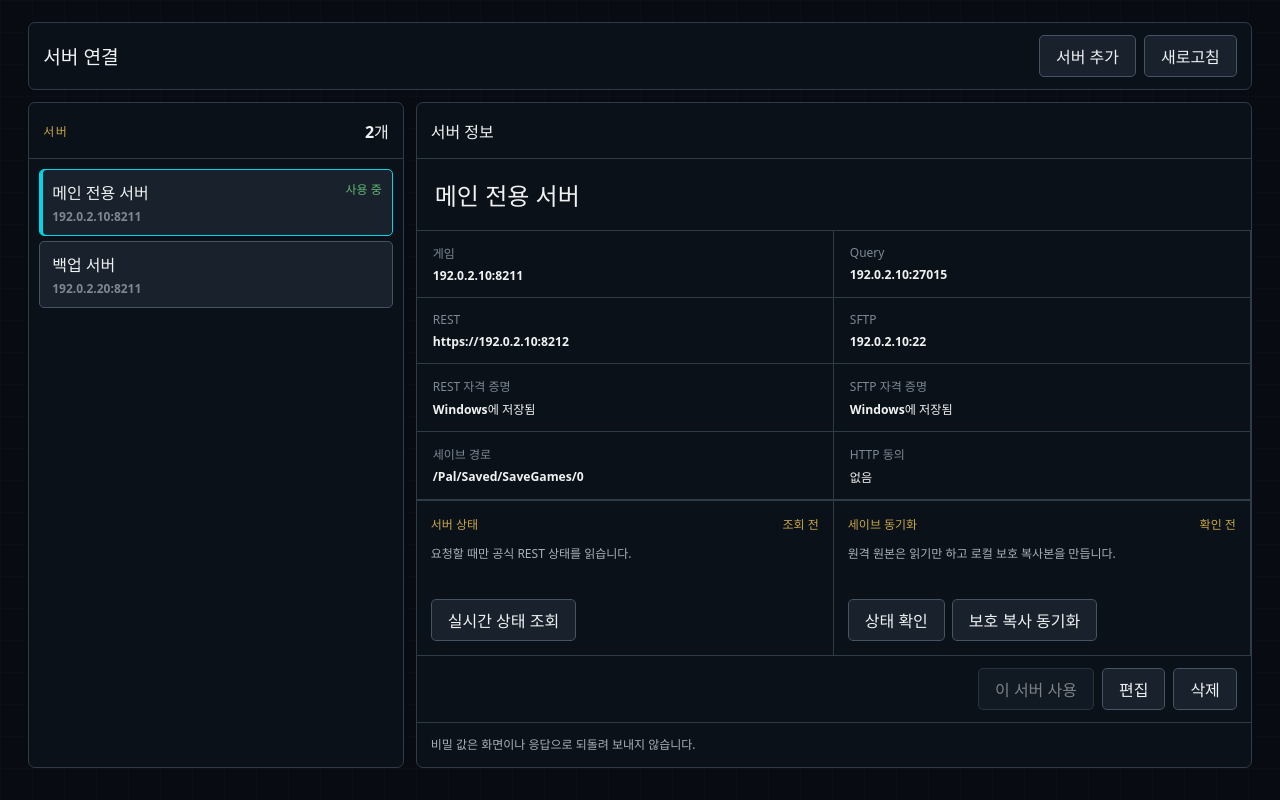
Scenario: ServerProfilesBoard › switches the inspector locally without mutating the stored selection
Click the button "백업 서버 192.0.2.20:8211" at (84, 265), box top-left (39, 241), bottom-right (393, 308)
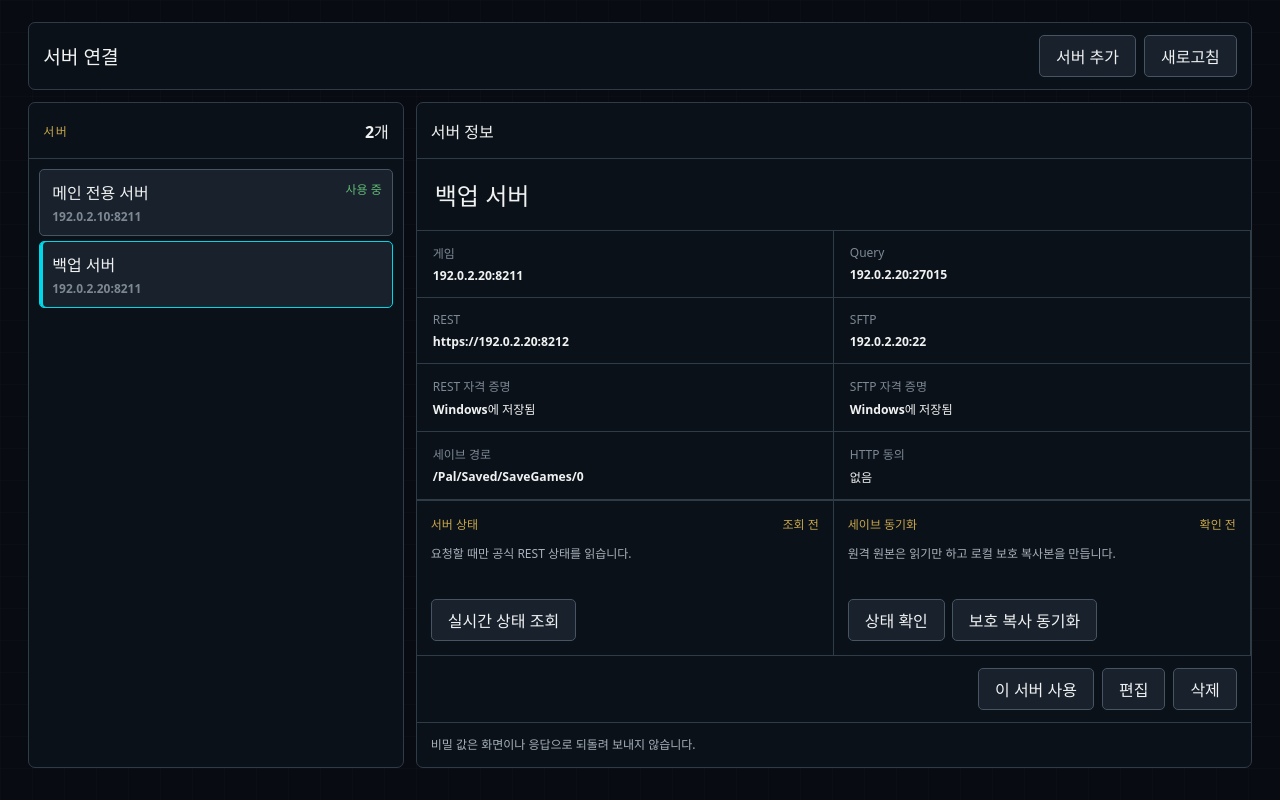
Expected: the text "사용 중" is shown, top-left (346, 180), bottom-right (382, 198)
Expected: the element named "선택한 서버 프로필" shows "192.0.2.20:8211", top-left (433, 267), bottom-right (523, 284)
